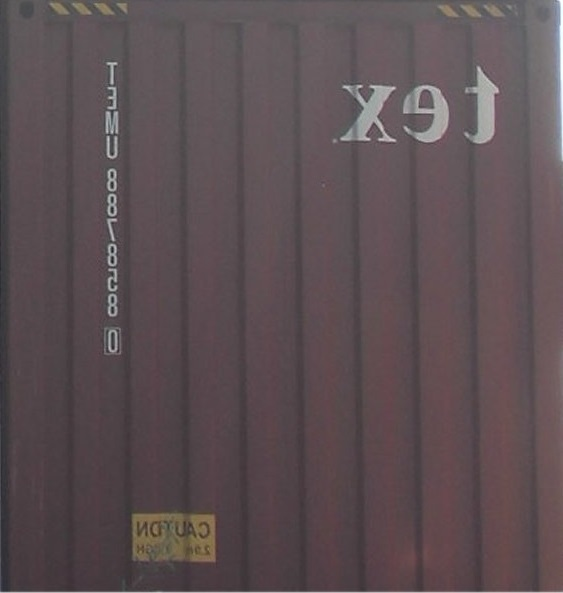container_no_door: (8, 5, 557, 583)
